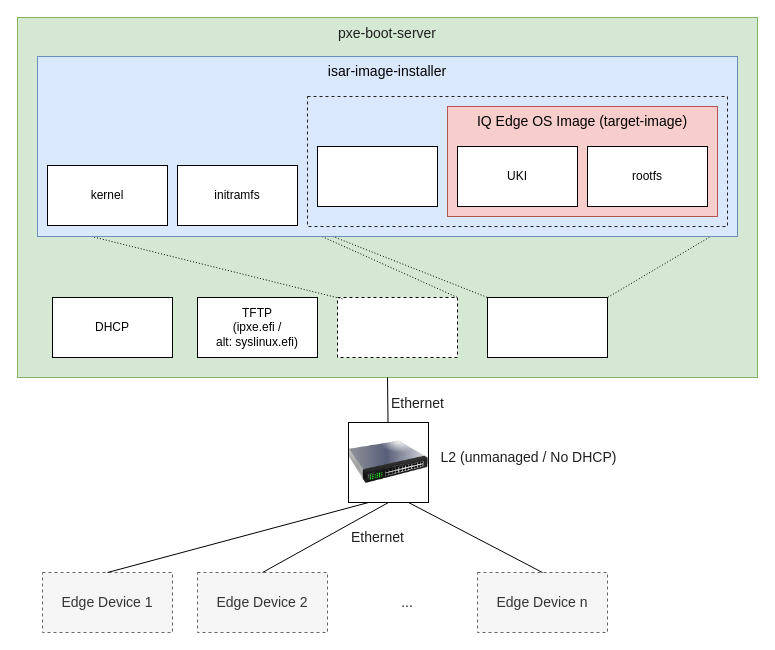
Image size: 775x650. Some labels were removed from this diagram. The centre of each missing label's shape, as x and y in pixels:
HTTP: point 397,327
NFS: point 547,327
target-bootstrapper: point 377,176
